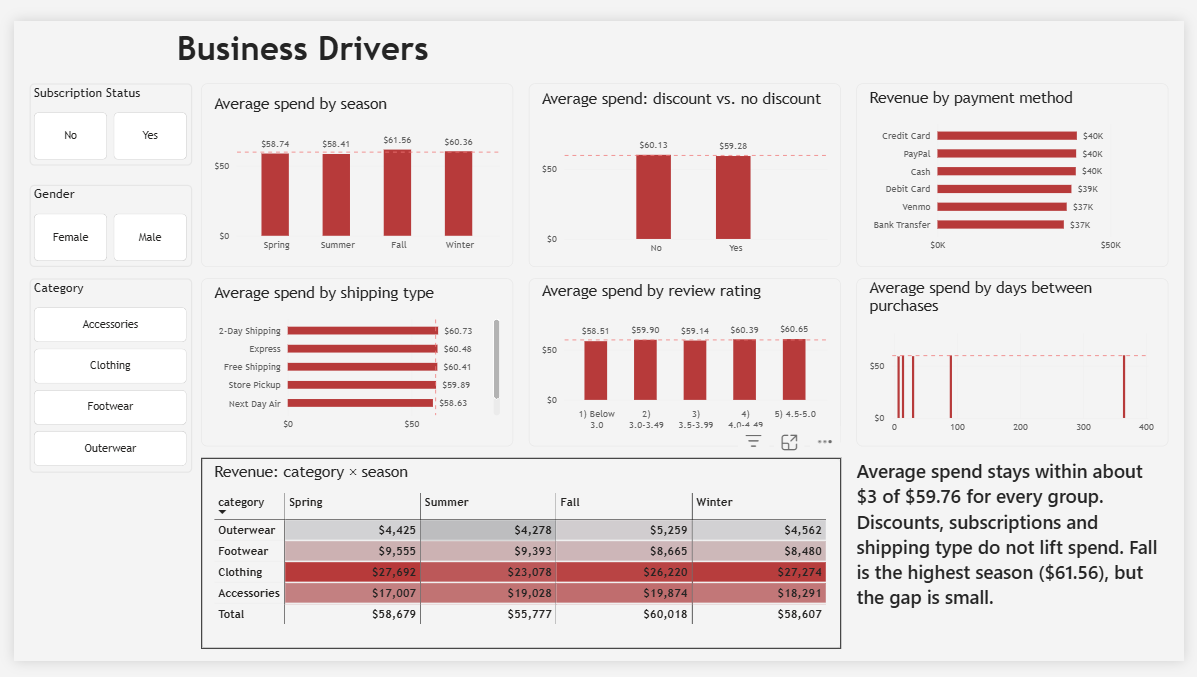

Layout of this report page (visuals, bound fields, positions):
{"tool":"powerbi","page":{"name":"Business Drivers","canvas":[1500,820],"ordinal":1},"visuals":[{"type":"textbox","box":[20,10,700,70],"z":0},{"type":"advancedSlicerVisual","fields":{"Values":["public customer.subscription_status"]},"box":[20.3,79.7,208.5,105.1],"z":1000},{"type":"advancedSlicerVisual","fields":{"Values":["public customer.gender"]},"box":[20.3,210.2,208.5,105.1],"z":2000},{"type":"advancedSlicerVisual","fields":{"Values":["public customer.category"]},"box":[20.3,330.5,208.5,249.2],"z":3000},{"type":"clusteredColumnChart","title":"Average spend by season","fields":{"Category":["public customer.season"],"Y":["public customer.Average Purchase Amount"]},"box":[240.7,79.7,400,235.6],"z":4000},{"type":"clusteredColumnChart","title":"Average spend: discount vs. no discount","fields":{"Category":["public customer.discount_applied"],"Y":["public customer.Average Purchase Amount"]},"box":[659.3,79.7,400,235.6],"z":5000},{"type":"clusteredBarChart","title":"Revenue by payment method","fields":{"Category":["public customer.payment_method"],"Y":["public customer.Total Revenue"]},"box":[1079.7,79.7,400,235.6],"z":6000},{"type":"clusteredBarChart","title":"Average spend by shipping type","fields":{"Category":["public customer.shipping_type"],"Y":["public customer.Average Purchase Amount"]},"box":[240,330,400,215],"z":7000},{"type":"clusteredColumnChart","title":"Average spend by review rating","fields":{"Category":["public customer.Rating Band"],"Y":["public customer.Average Purchase Amount"]},"box":[660,330,400,215],"z":8000},{"type":"clusteredColumnChart","title":"Average spend by days between purchases","fields":{"Category":["public customer.purchase_frequency_days"],"Y":["public customer.Average Purchase Amount"]},"box":[1080,330,400,215],"z":9000},{"type":"pivotTable","title":"Revenue: category × season","fields":{"Columns":["public customer.season"],"Rows":["public customer.category"],"Values":["public customer.Total Revenue"]},"box":[240.7,559.3,820.3,245.8],"z":10000},{"type":"textbox","box":[1079.7,559.3,400,245.8],"z":11000}]}

Visuals, with their boxes on the page's 1500x820 design canvas (x1, y1, x2, y2). These are canvas units, not pixel positions in the 1197x677 screenshot, which may show the page scaled, cropped or inside an application window:
textbox: BBox(20, 10, 720, 80)
advancedSlicerVisual - public customer.subscription_status: BBox(20, 80, 229, 185)
advancedSlicerVisual - public customer.gender: BBox(20, 210, 229, 315)
advancedSlicerVisual - public customer.category: BBox(20, 330, 229, 580)
"Average spend by season" clusteredColumnChart: BBox(241, 80, 641, 315)
"Average spend: discount vs. no discount" clusteredColumnChart: BBox(659, 80, 1059, 315)
"Revenue by payment method" clusteredBarChart: BBox(1080, 80, 1480, 315)
"Average spend by shipping type" clusteredBarChart: BBox(240, 330, 640, 545)
"Average spend by review rating" clusteredColumnChart: BBox(660, 330, 1060, 545)
"Average spend by days between purchases" clusteredColumnChart: BBox(1080, 330, 1480, 545)
"Revenue: category × season" pivotTable: BBox(241, 559, 1061, 805)
textbox: BBox(1080, 559, 1480, 805)
